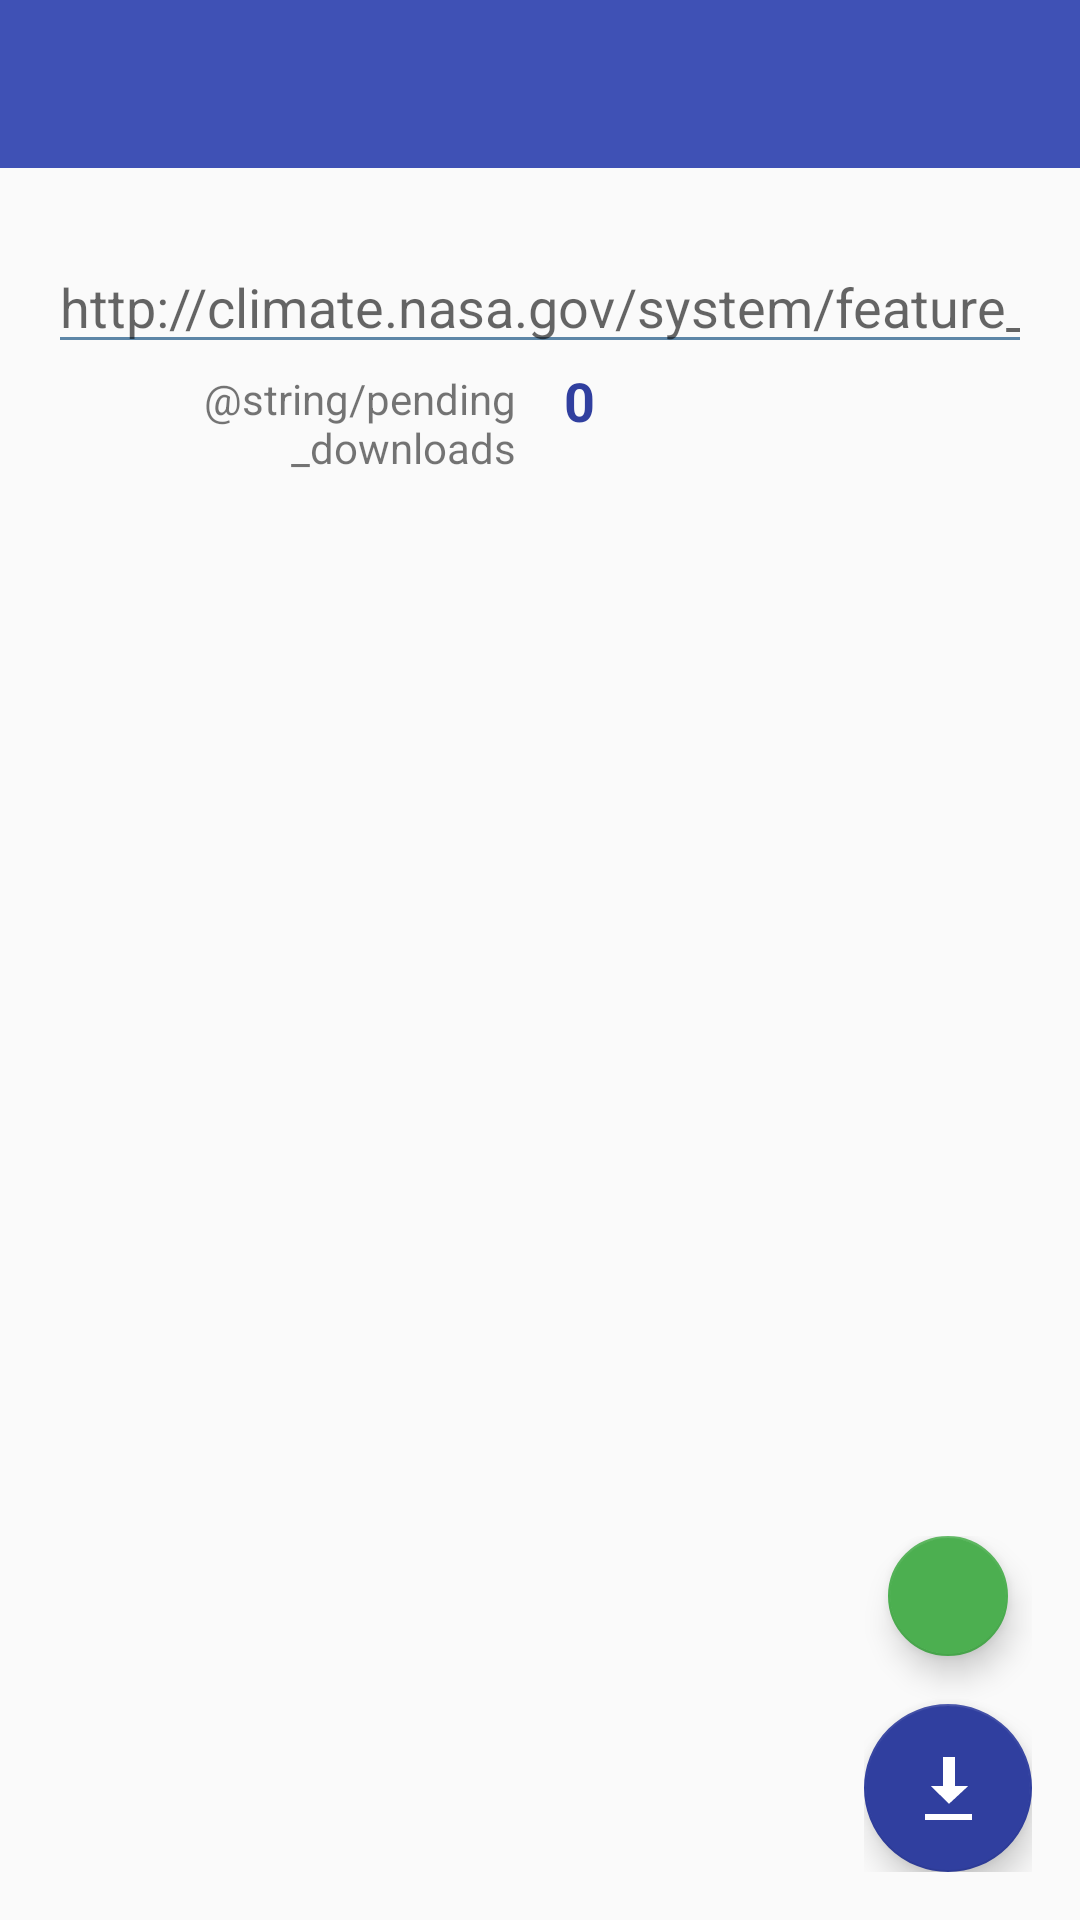

Icons on this 1080*1920 Android screen, each with the point to tap as point (x, y):
download: point (948, 1788)
